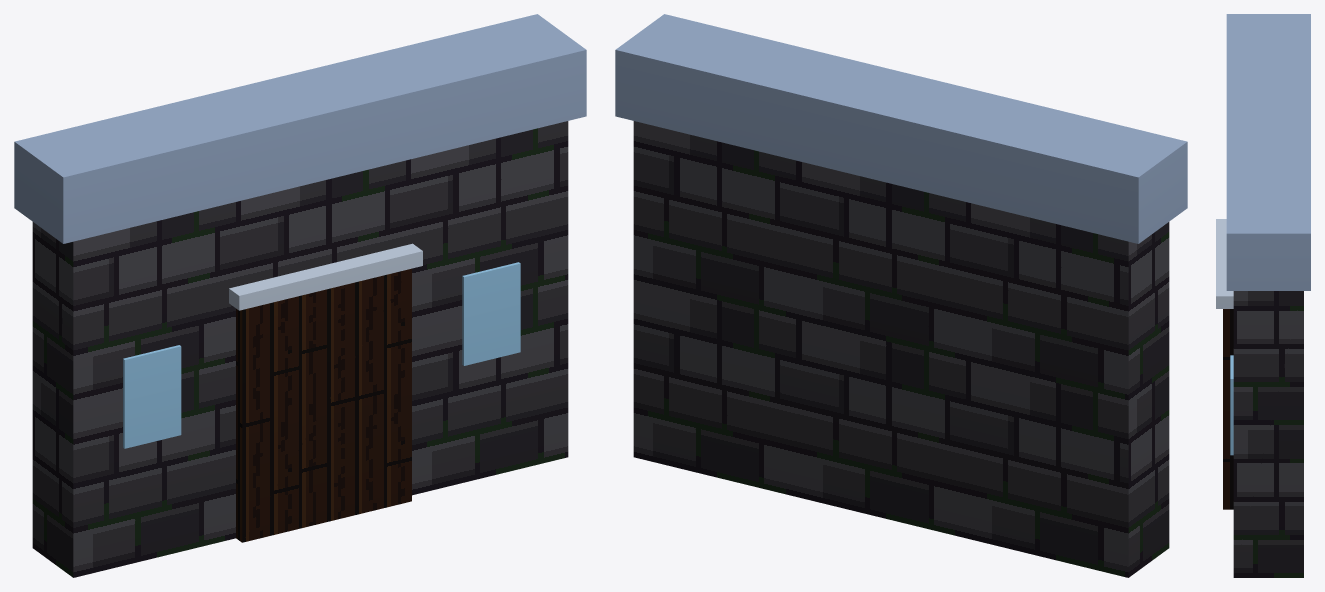
The model's file is hels_hall.glb.
The picture shows the model from 3 angles, left to right: view 1: azimuth 30°, elevation 25°; view 2: azimuth 150°, elevation 25°; view 3: azimuth 270°, elevation 25°; orthographic projection. The views are drawn at different scales.
Visible parts, largest first — view 1: hels_hall; view 2: hels_hall; view 3: hels_hall.
Boxes of the visible parts, x1,y1,x2,y2 form: hels_hall: (14, 14, 586, 577); hels_hall: (615, 14, 1187, 577); hels_hall: (1216, 14, 1310, 577).
Bounding box in the file's own units: 7.4 × 5.5 × 1.35.
Materials: 4 (2 with a texture image).
